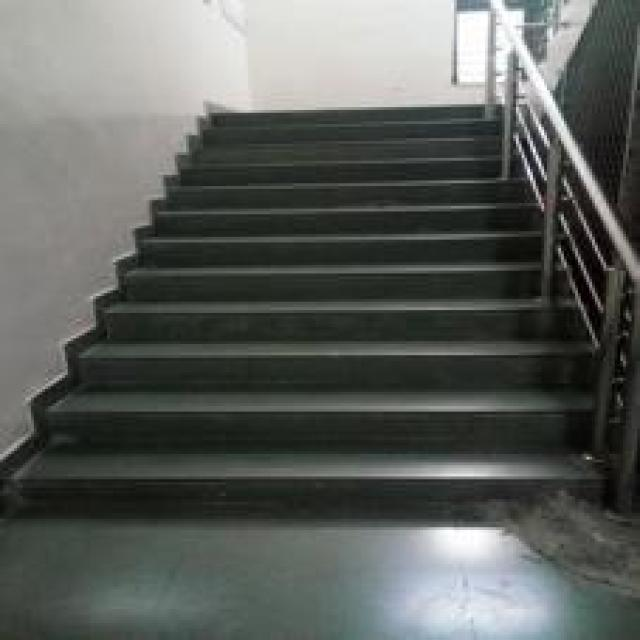upstair: (49, 289, 503, 523)
